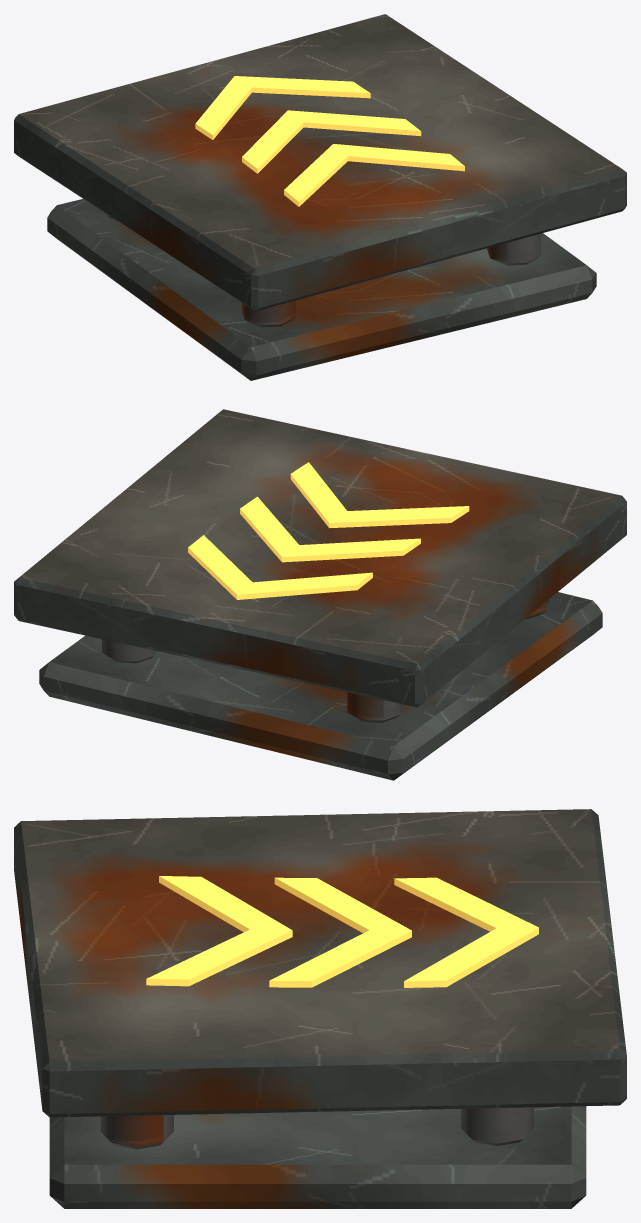
File: R4D_KnockbackTrap_LOD1.glb
The picture shows the model from 3 angles, top to bottom: view 1: azimuth 30°, elevation 25°; view 2: azimuth 150°, elevation 25°; view 3: azimuth 270°, elevation 25°; orthographic projection. The views are drawn at different scales.
Parts seen in each view (by area): view 1: R4D_KnockbackTrap_LOD1; view 2: R4D_KnockbackTrap_LOD1; view 3: R4D_KnockbackTrap_LOD1.
Part boxes in pixels (<box>): R4D_KnockbackTrap_LOD1: <box>14,14,626,380</box>; R4D_KnockbackTrap_LOD1: <box>14,409,626,780</box>; R4D_KnockbackTrap_LOD1: <box>14,809,626,1208</box>.
Bounding box in the file's own units: 0.5027 × 0.156 × 0.5027.
5 materials, 4 textured.
